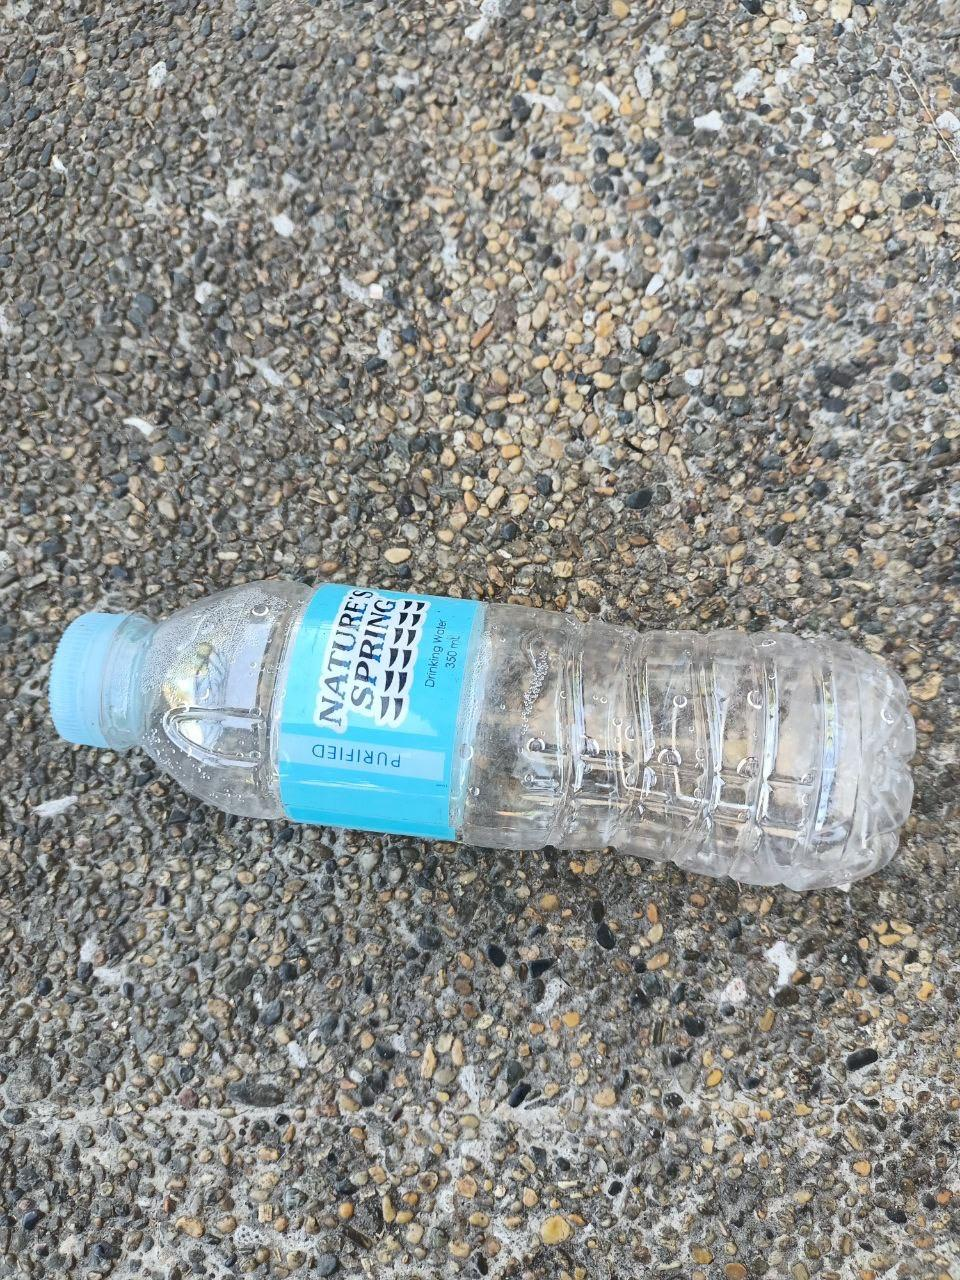plastic: (37, 509, 928, 988)
